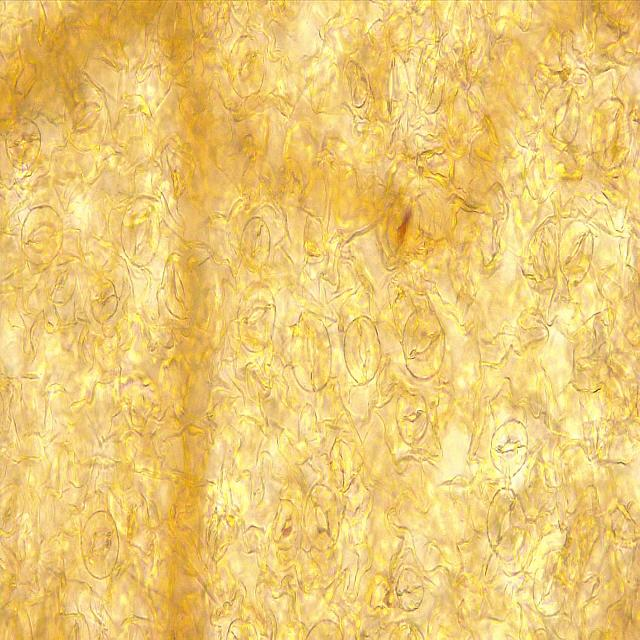Stomata: (289, 306, 334, 394), (400, 305, 447, 384), (62, 79, 110, 155), (589, 95, 633, 175), (235, 278, 278, 355), (119, 195, 163, 270), (18, 203, 67, 270), (341, 314, 384, 389), (597, 350, 640, 425), (370, 49, 411, 125), (486, 487, 527, 562), (79, 508, 121, 581), (538, 81, 582, 150), (302, 480, 343, 554), (556, 216, 596, 286), (531, 546, 568, 618), (488, 418, 531, 478), (227, 33, 265, 100), (160, 249, 196, 319), (4, 114, 43, 174), (156, 0, 193, 59), (415, 53, 447, 117), (396, 386, 430, 446), (239, 215, 272, 275), (44, 254, 78, 308), (272, 496, 302, 552), (88, 275, 121, 325), (394, 566, 427, 612), (0, 481, 25, 539), (0, 598, 34, 640)
